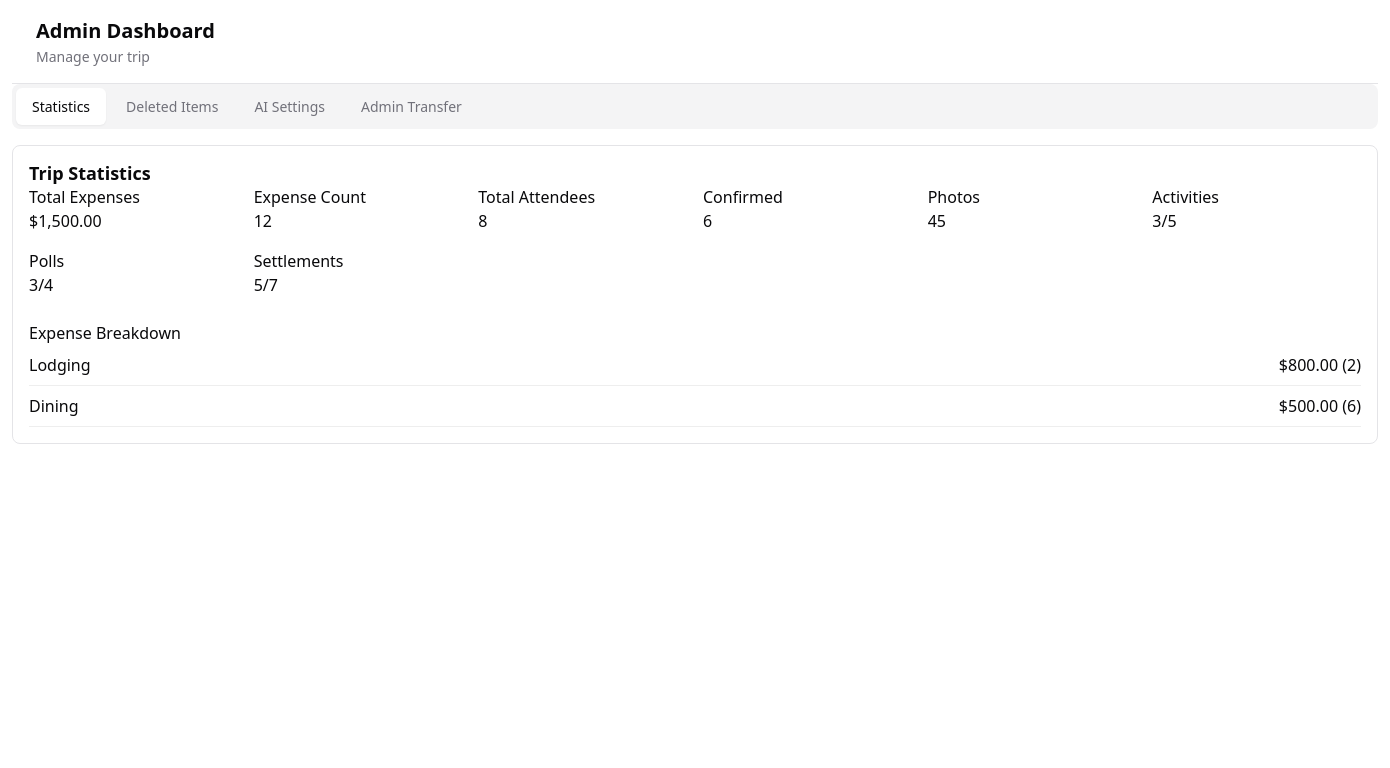
AdminPage › deleted items tab › should show confirmation before permanent delete
The width and height of the screenshot is (1390, 768).
Click the tab "Deleted Items". click: (172, 106)
box: [110,88,234,125]
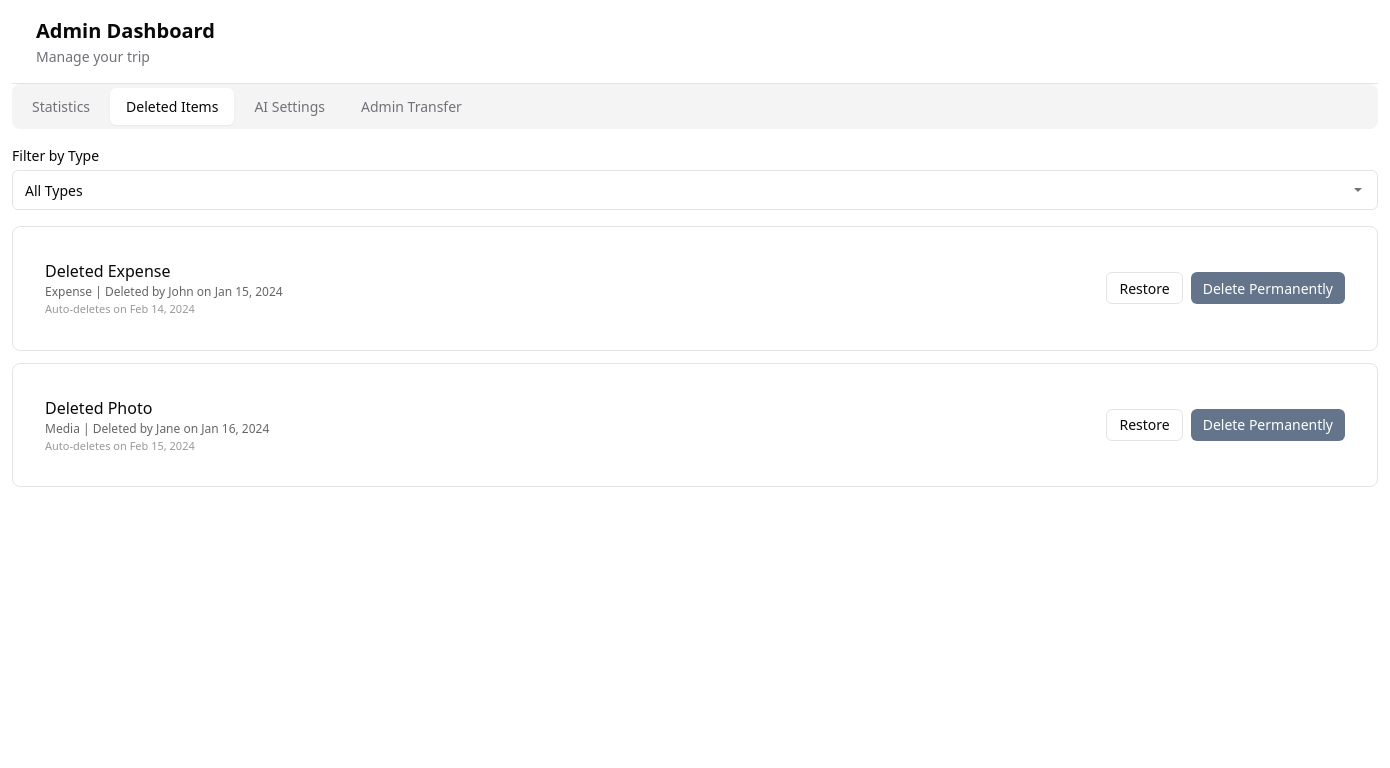
Expected: the text "Deleted Expense" is shown, [45,260,170,282]
Note: Click delete button
Click the button "Delete Permanently" in the row of "Jan 15, 2024". click: (1268, 288)
box: [1191,272,1345,304]
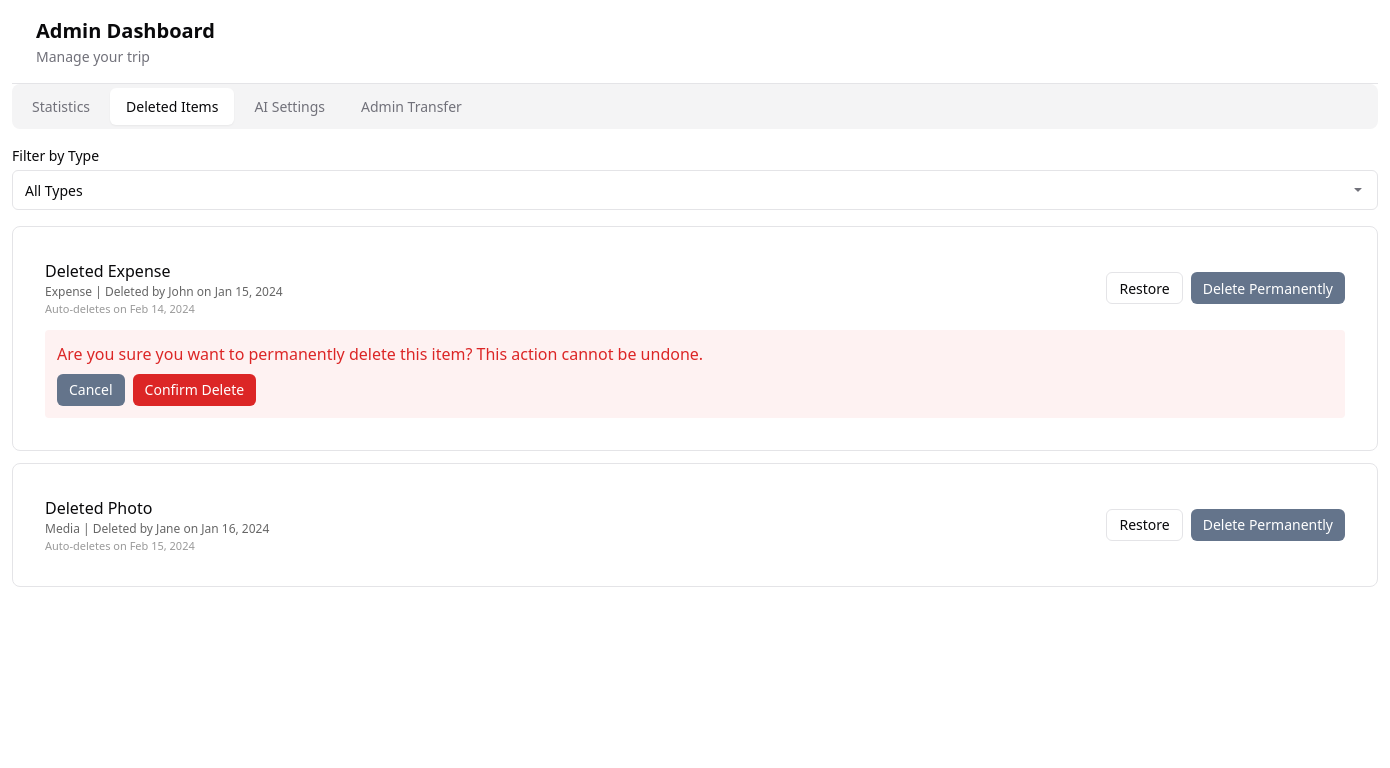
Expected: the text "Are you sure" is shown, [57,342,703,364]
